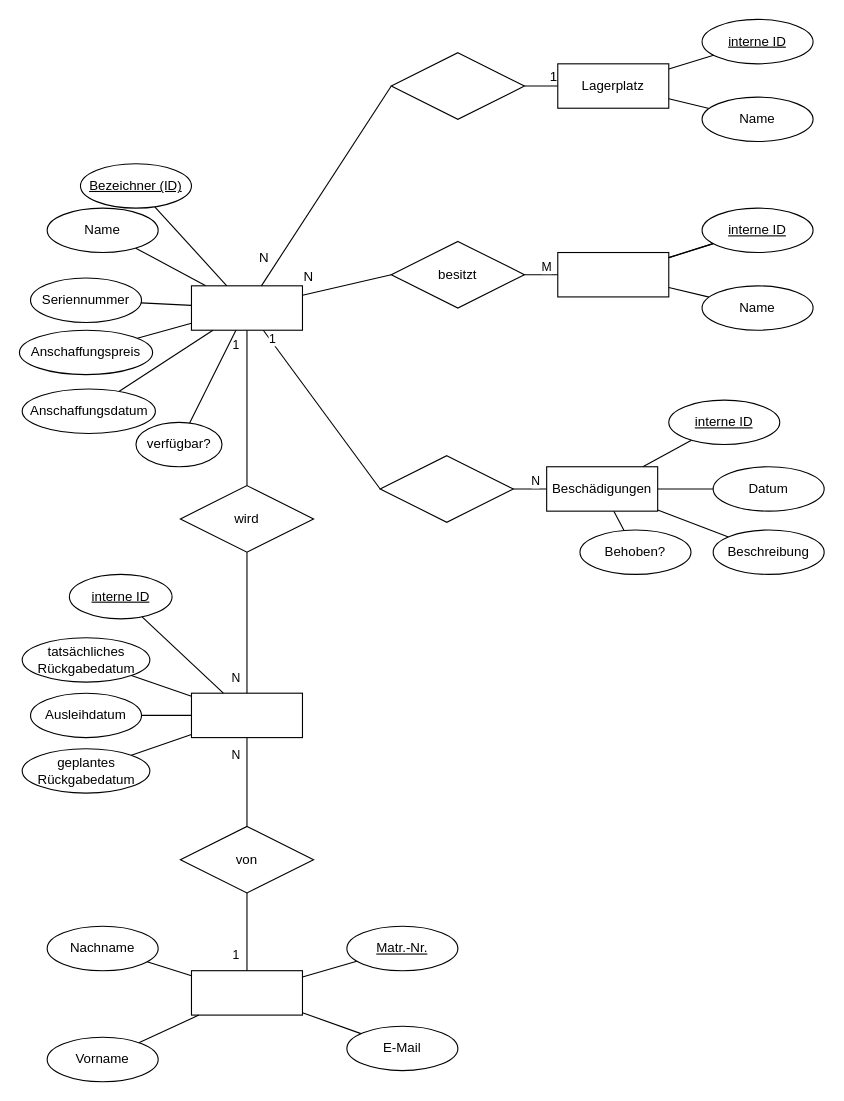
Some shapes in this 844 by 1101 pixel diagram are drawn without their labels. The shapes that lost their labels are listed below. From the top down, each one's box as (x1, y1, x2, y2) in pixels, then its label:
(390, 52, 524, 119): befindet sich an
(557, 251, 669, 297): Kategorie
(190, 285, 302, 330): Laborgegenstand
(379, 455, 513, 522): hat
(190, 692, 302, 738): Ausleihe
(190, 970, 302, 1015): Person / Student
